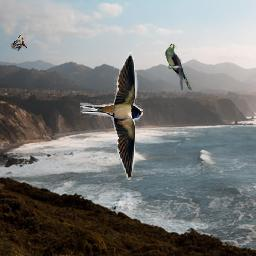Cuckoo: (165, 44, 193, 91)
Swallow: (81, 52, 144, 181)
Woodpecker: (11, 35, 27, 52)
